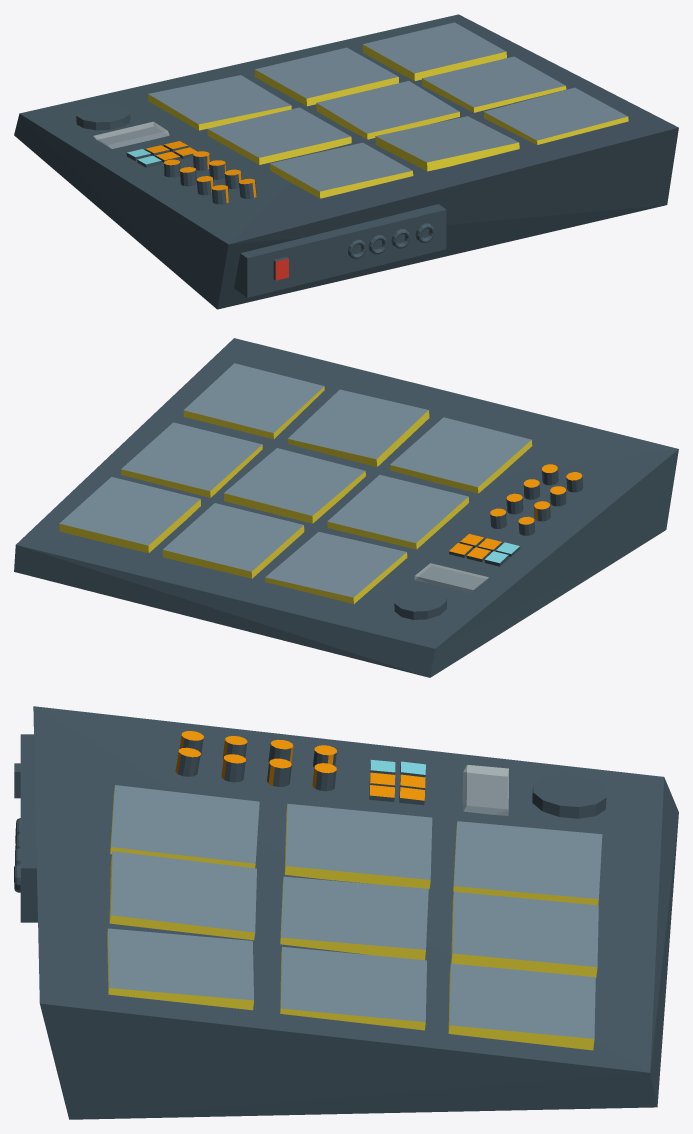
The model's file is drum_pad.glb.
The picture shows the model from 3 angles, top to bottom: view 1: azimuth 30°, elevation 25°; view 2: azimuth 150°, elevation 25°; view 3: azimuth 270°, elevation 25°; orthographic projection. The views are drawn at different scales.
Visible parts, largest first — view 1: group2045103780, group273564800, group1149581205, group727357565, group1132015495, group1441970887, group487033561, group429365395, group968990847, group211396980, group1335247664, group1133021644 (+1 smaller); view 2: group2045103780, group429365395, group1149581205, group1132015495, group968990847, group727357565, group487033561, group1441970887, group1335247664, group211396980, group1133021644, group14101012; view 3: group2045103780, group429365395, group1132015495, group1149581205, group1441970887, group211396980, group727357565, group1335247664, group487033561, group968990847, group273564800, group1133021644 (+3 smaller).
Boxes of the visible parts, x1,y1,x2,y2 form: group2045103780: [14, 14, 678, 309]; group273564800: [234, 204, 446, 297]; group1149581205: [362, 22, 506, 80]; group727357565: [316, 81, 459, 139]; group1132015495: [254, 47, 398, 106]; group1441970887: [207, 107, 351, 164]; group487033561: [483, 87, 628, 144]; group429365395: [375, 116, 519, 171]; group968990847: [269, 142, 413, 198]; group211396980: [148, 75, 291, 130]; group1335247664: [422, 56, 566, 112]; group1133021644: [76, 102, 130, 130]; group2045103780: [14, 338, 678, 677]; group429365395: [287, 389, 429, 466]; group1149581205: [59, 477, 200, 553]; group1132015495: [162, 503, 304, 578]; group968990847: [390, 417, 532, 493]; group727357565: [223, 448, 365, 523]; group487033561: [183, 363, 324, 439]; group1441970887: [327, 475, 468, 549]; group1335247664: [121, 422, 262, 497]; group211396980: [265, 532, 407, 603]; group1133021644: [394, 586, 446, 619]; group14101012: [414, 563, 488, 592]; group2045103780: [33, 706, 678, 1119]; group429365395: [109, 851, 256, 940]; group1132015495: [451, 891, 598, 977]; group1149581205: [448, 963, 595, 1050]; group1441970887: [284, 803, 432, 889]; group211396980: [453, 821, 602, 905]; group727357565: [280, 876, 428, 960]; group1335247664: [280, 947, 426, 1030]; group487033561: [107, 928, 253, 1010]; group968990847: [110, 785, 259, 868]; group273564800: [20, 734, 37, 922]; group1133021644: [532, 774, 606, 818].
Size of the model in its own units: 1.73 by 0.3126 by 1.6.
